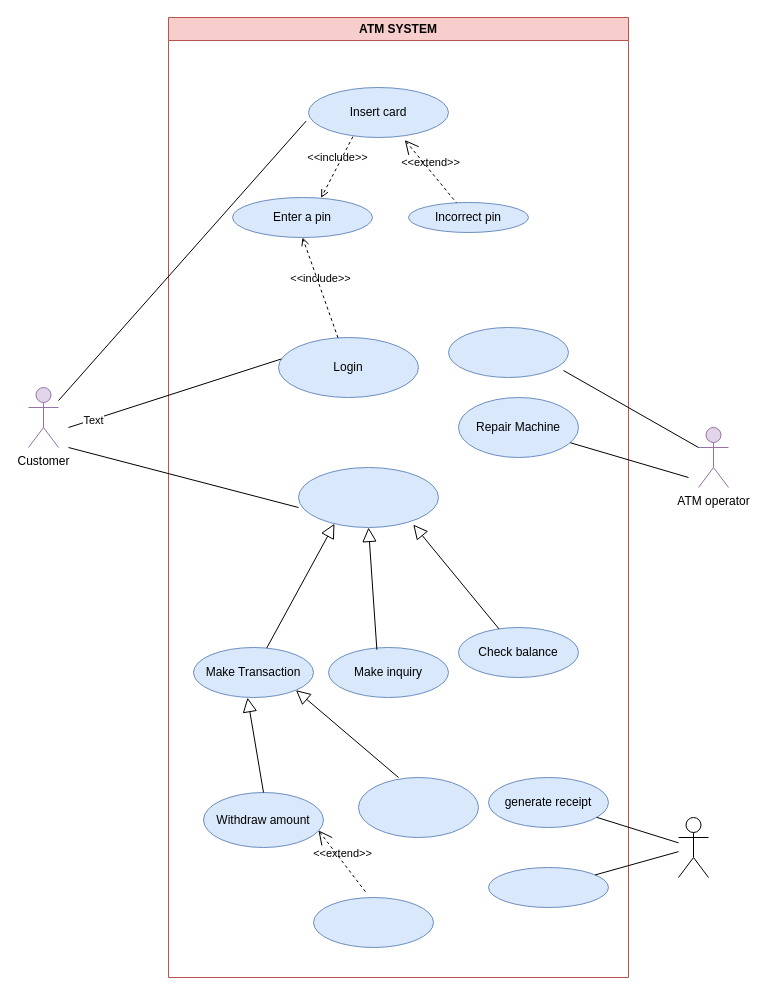
The diagram is 766 pixels wide and 995 high, and some of its shapes have lost their labels. The shapes that lost their labels are listed below. From the top down, each one's box as (x1, y1, x2, y2) in pixels, then its label:
(448, 326, 568, 378): Refill amount
(298, 466, 438, 528): Select option
(358, 776, 478, 838): Transfer fund
(678, 816, 708, 878): Actor
(488, 866, 608, 908): despense cash
(312, 896, 434, 948): Select amount
